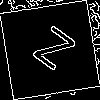Z: (25, 25, 77, 80)
